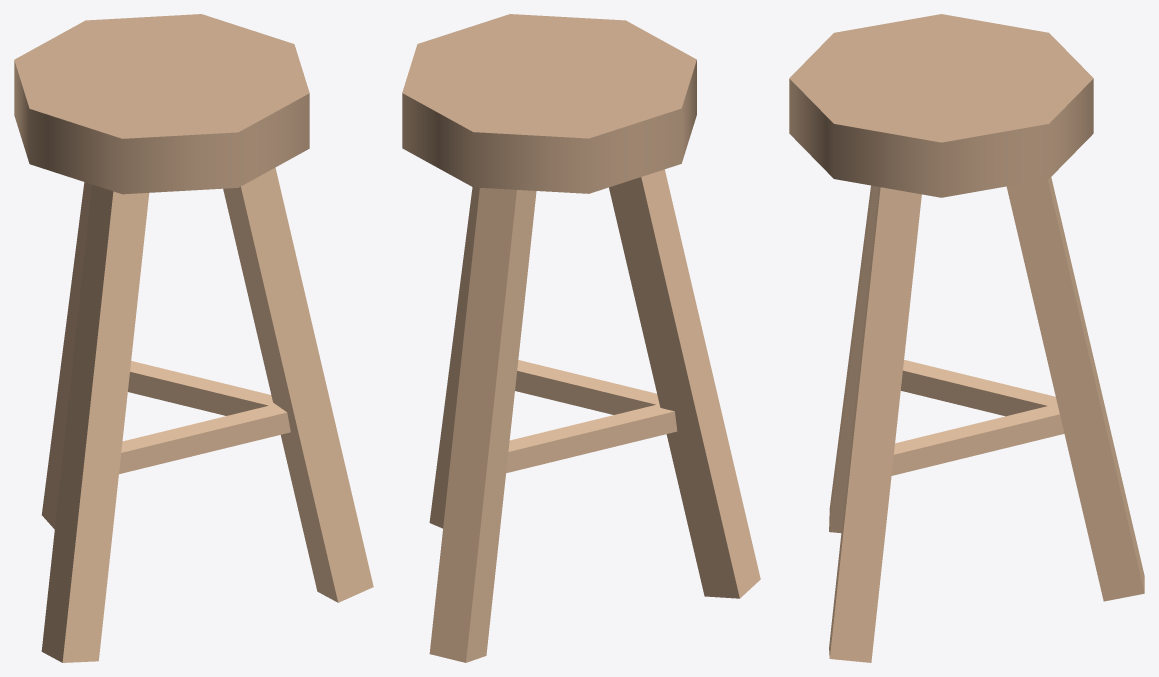
The model's file is stoolRustic.glb.
3 views of the same model, side by side, from view 1: azimuth 30°, elevation 25°; view 2: azimuth 150°, elevation 25°; view 3: azimuth 270°, elevation 25° (orthographic).
Parts seen in each view (by area): view 1: stoolRustic; view 2: stoolRustic; view 3: stoolRustic.
Boxes of the visible parts, left/top/right/bottom form: stoolRustic: left=14, top=14, right=373, bottom=662; stoolRustic: left=402, top=14, right=760, bottom=662; stoolRustic: left=789, top=14, right=1144, bottom=662.
Size of the model in its own units: 0.2349 by 0.3739 by 0.2335.
